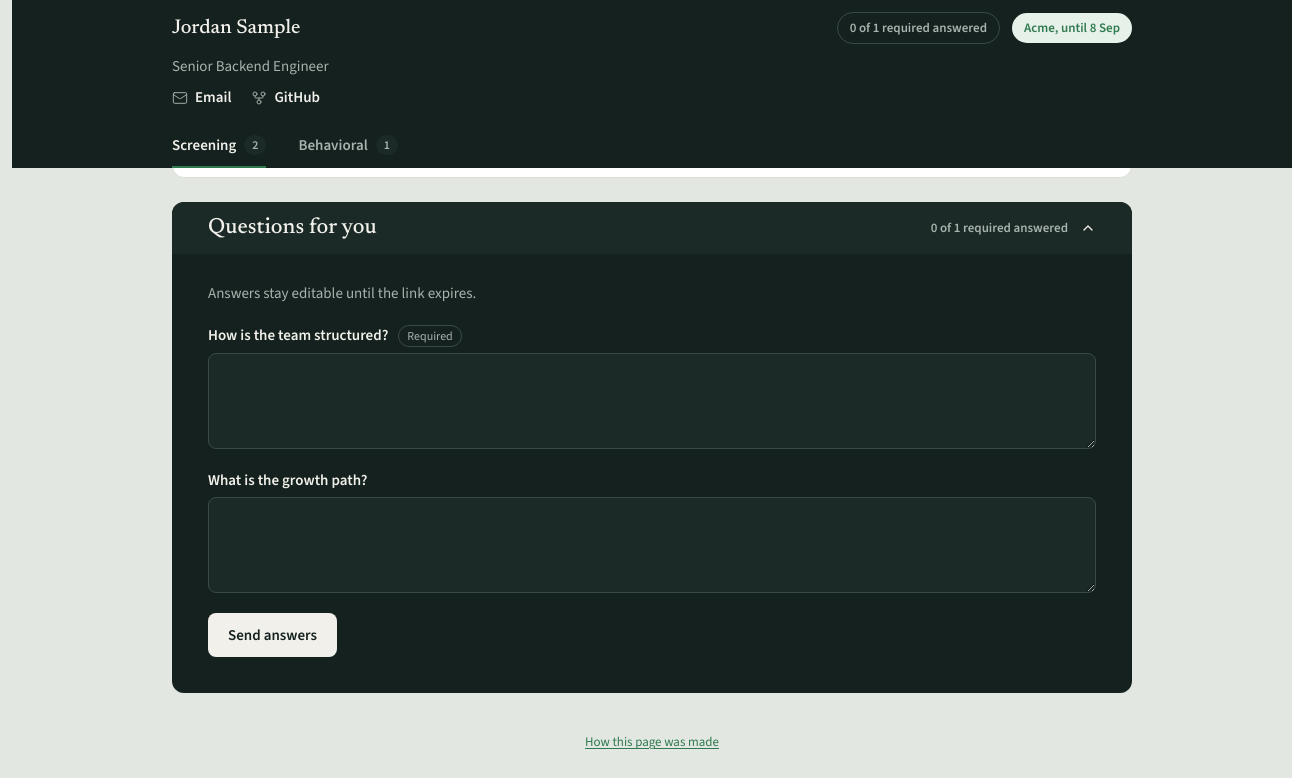
Test case: SessionPage › moves to the expired page when the link expires mid-submit
(page scrolled)
Expected: the heading "Jordan Sample" is shown, [172,18,300,38]
Type "x" into the text box labelled "How is the team structured? Required".
click(652, 401); type("x")  # box [208,353,1096,449]
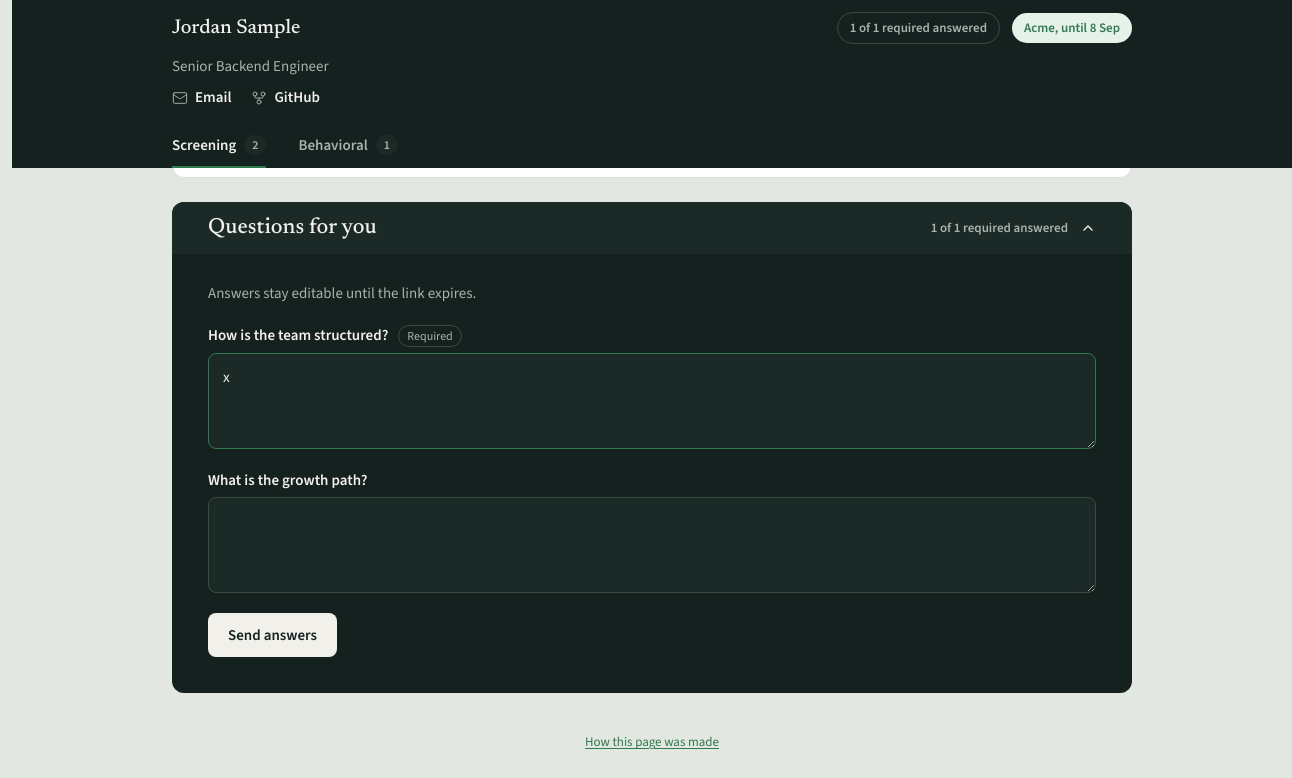
Click the button "Send answers".
click(272, 635)  # box [208,613,337,657]
(page scrolled)
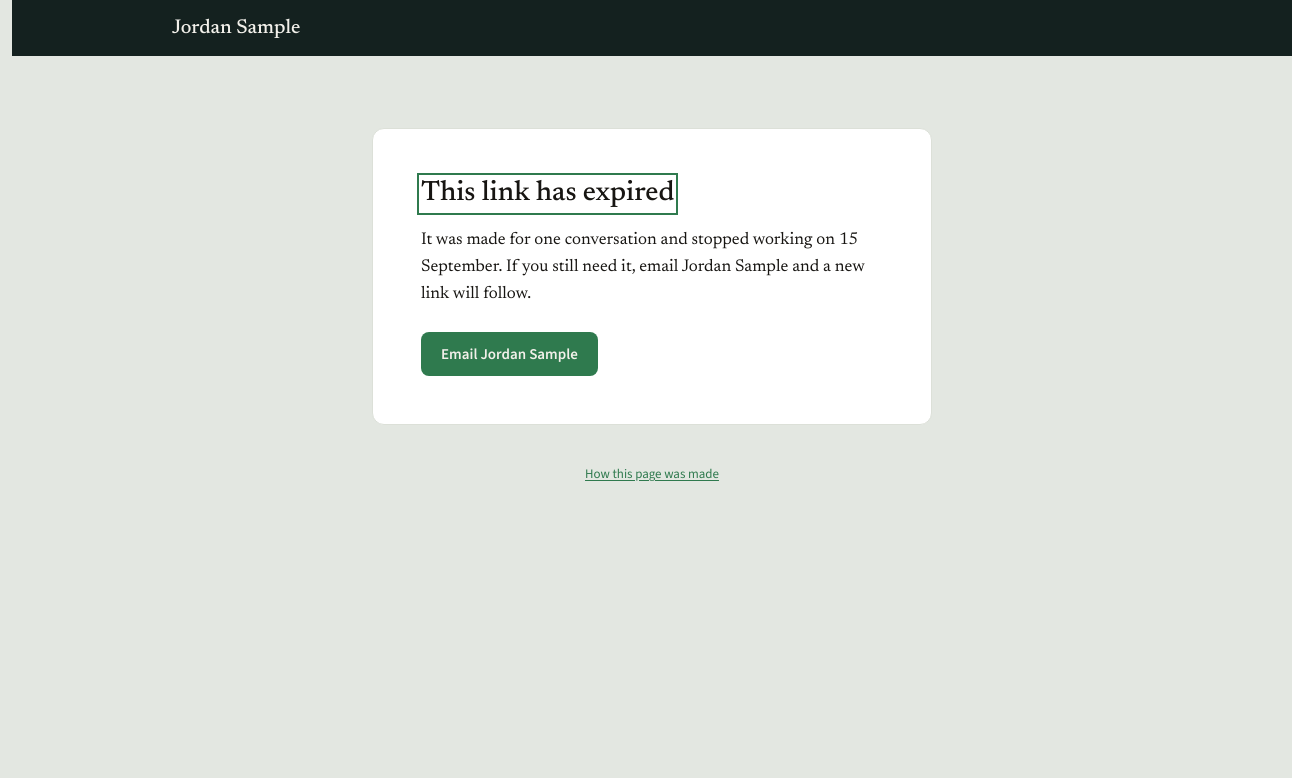
Result: the heading "This link has expired" is shown at [421,177,674,211]
Result: the text "It was made for one conversation and stopped working on 15 September. If you still need it, email Jordan Sample and a ne" is shown at [421,227,883,308]
Result: the button "Send answers" is gone
